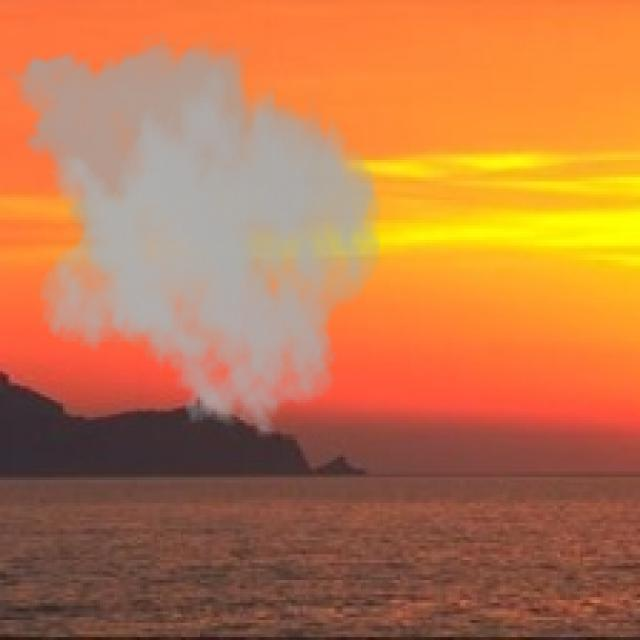Smoke: (0, 28, 383, 440)
